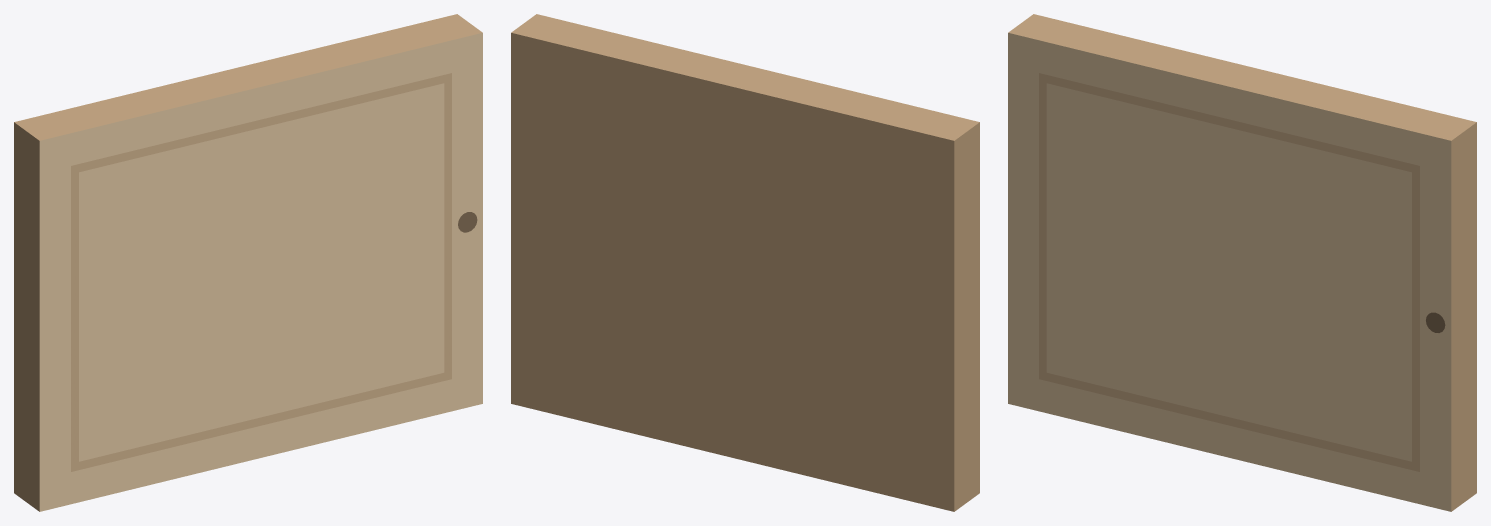
Rendered from Kitchen_CuttingBoard.glb.
3 views of the same model, side by side, from view 1: azimuth 30°, elevation 25°; view 2: azimuth 150°, elevation 25°; view 3: azimuth 330°, elevation 25° (orthographic).
Visible parts, largest first — view 1: Kitchen_CuttingBoard; view 2: Kitchen_CuttingBoard; view 3: Kitchen_CuttingBoard.
Boxes of the visible parts, left/top/right/bottom form: Kitchen_CuttingBoard: left=14, top=14, right=482, bottom=511; Kitchen_CuttingBoard: left=511, top=14, right=979, bottom=511; Kitchen_CuttingBoard: left=1008, top=14, right=1476, bottom=511.
Size of the model in its own units: 1 by 0.8 by 0.101.
